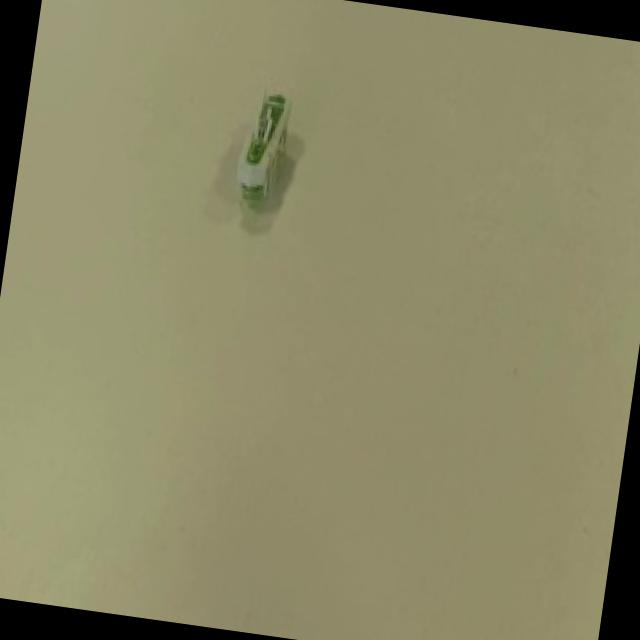4_NanoBug_Blanco: (194, 70, 352, 258)
